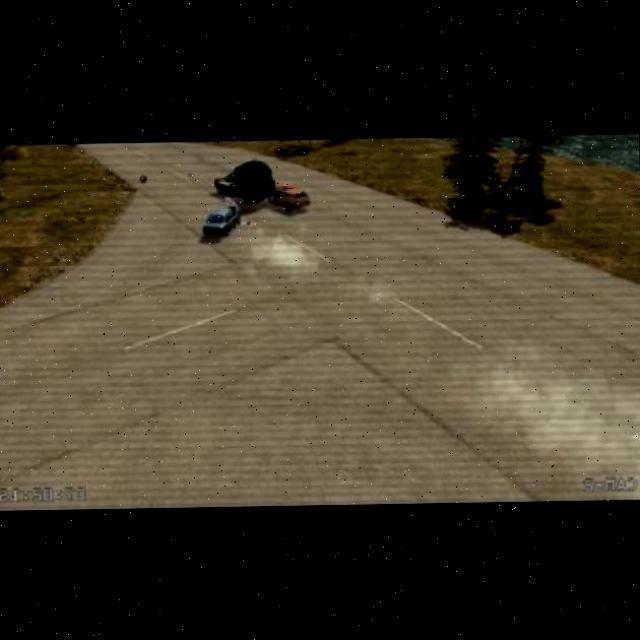accident: (200, 167, 308, 236)
